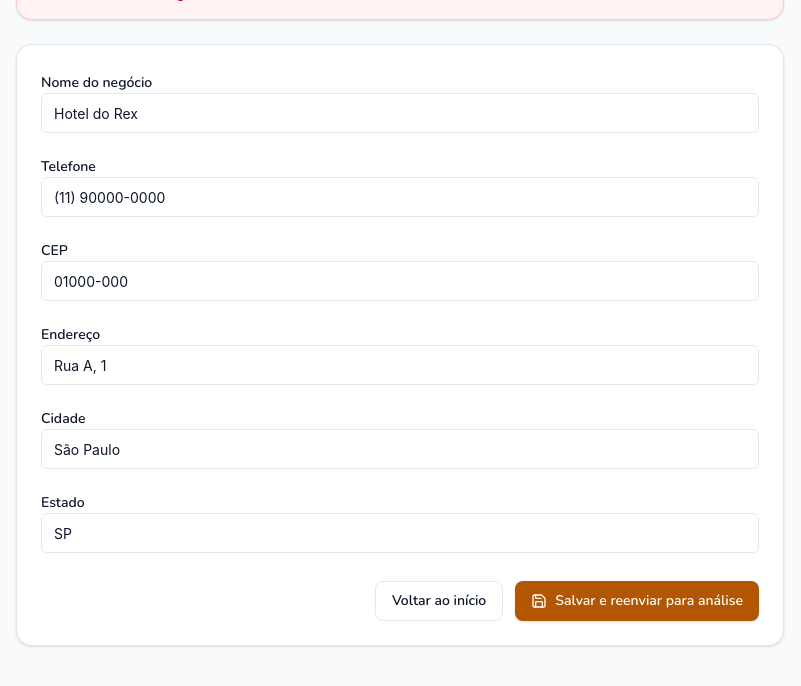
Test case: avisa quando as correções salvam mas o reenvio falha
(page scrolled)
Click the button "Salvar e reenviar para análise" at (637, 601), box [515,581,759,621]
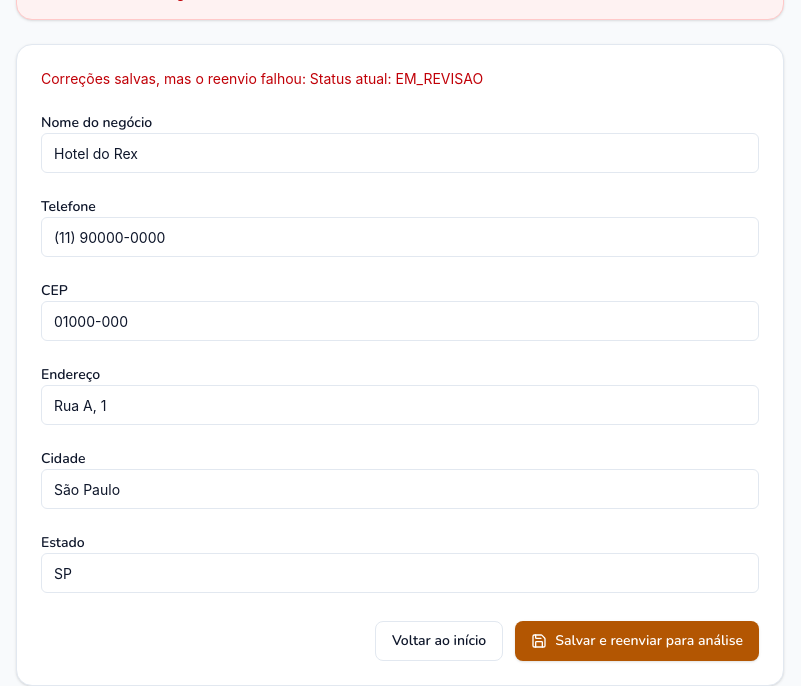
Check: the text "Correções salvas, mas o reenvio falhou: Status atual: EM_REVISAO" is shown, box [41,70,483,87]
